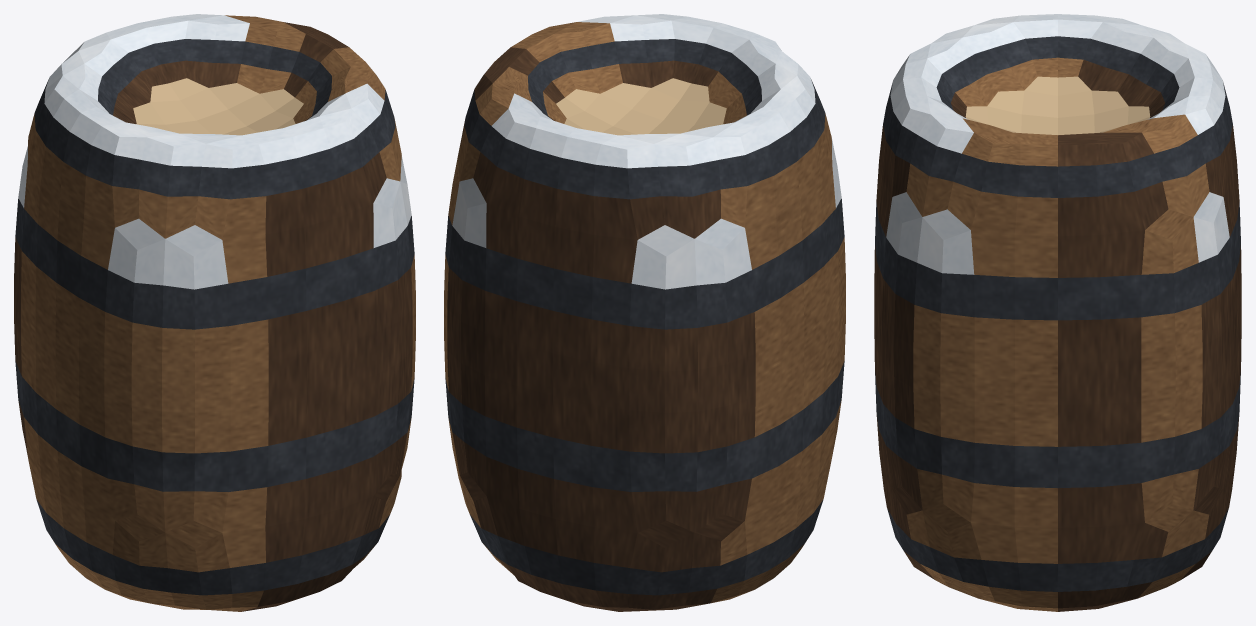
File: prop_barrel_snow.glb
3 renders of one model, left to right at view 1: azimuth 30°, elevation 25°; view 2: azimuth 150°, elevation 25°; view 3: azimuth 270°, elevation 25°, orthographic.
Visible parts, largest first — view 1: wilds_prop_barrel_snow; view 2: wilds_prop_barrel_snow; view 3: wilds_prop_barrel_snow.
Part boxes in pixels (x1,y1,x2,y2): wilds_prop_barrel_snow: (14, 14, 415, 611); wilds_prop_barrel_snow: (444, 14, 845, 611); wilds_prop_barrel_snow: (874, 14, 1241, 611).
Bounding box in the file's own units: 0.4922 × 0.738 × 0.4922.
2 materials, 1 textured.
